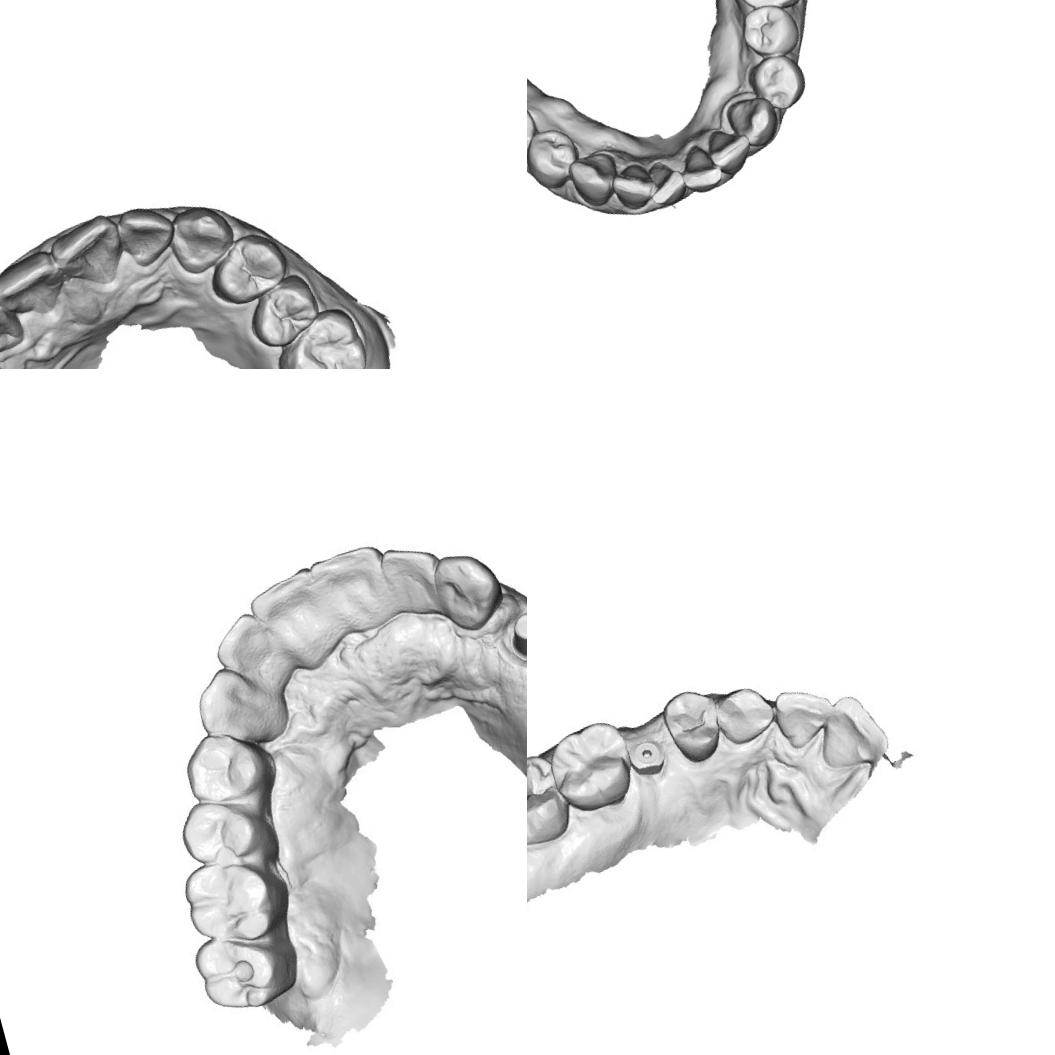abutment: (495, 601, 527, 674)
canine: (190, 661, 288, 756), (430, 550, 506, 631), (163, 200, 240, 276), (710, 678, 780, 750), (562, 142, 627, 211), (720, 88, 784, 154)
implant: (625, 734, 668, 777)
incisor: (248, 566, 340, 672), (312, 540, 402, 640), (807, 686, 891, 778), (49, 213, 133, 299), (216, 608, 296, 697), (376, 538, 448, 625), (766, 676, 840, 754), (112, 199, 182, 273), (0, 250, 70, 323), (700, 121, 758, 182), (672, 138, 730, 198), (605, 155, 659, 215), (640, 154, 691, 210), (0, 294, 28, 359)
molar: (176, 849, 293, 956), (187, 916, 293, 1021), (540, 714, 638, 818), (273, 312, 375, 369), (527, 748, 576, 855), (721, 0, 813, 20)
premolar: (172, 786, 270, 873), (175, 725, 268, 809), (206, 228, 294, 310), (242, 273, 326, 351), (655, 681, 729, 768), (732, 0, 807, 66), (742, 47, 812, 117), (527, 121, 587, 195), (527, 95, 546, 169)
